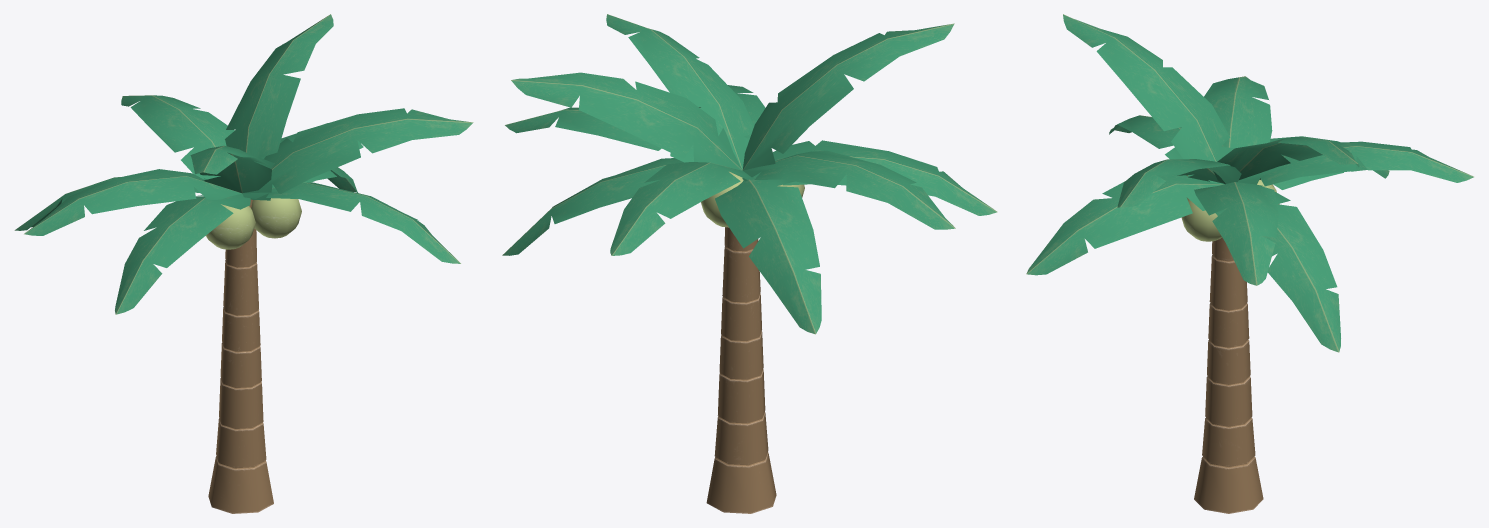
The model's file is tree.fbx.
The picture shows the model from 3 angles, left to right: view 1: azimuth 30°, elevation 25°; view 2: azimuth 150°, elevation 25°; view 3: azimuth 270°, elevation 25°; orthographic projection. The views are drawn at different scales.
Visible parts, largest first — view 1: tree; view 2: tree; view 3: tree.
Part boxes in pixels (bbox=[...]): tree: bbox=[14, 14, 473, 513]; tree: bbox=[502, 14, 997, 513]; tree: bbox=[1026, 14, 1473, 513].
Bounding box in the file's own units: 694 × 660 × 630.
1 material, 1 textured.
